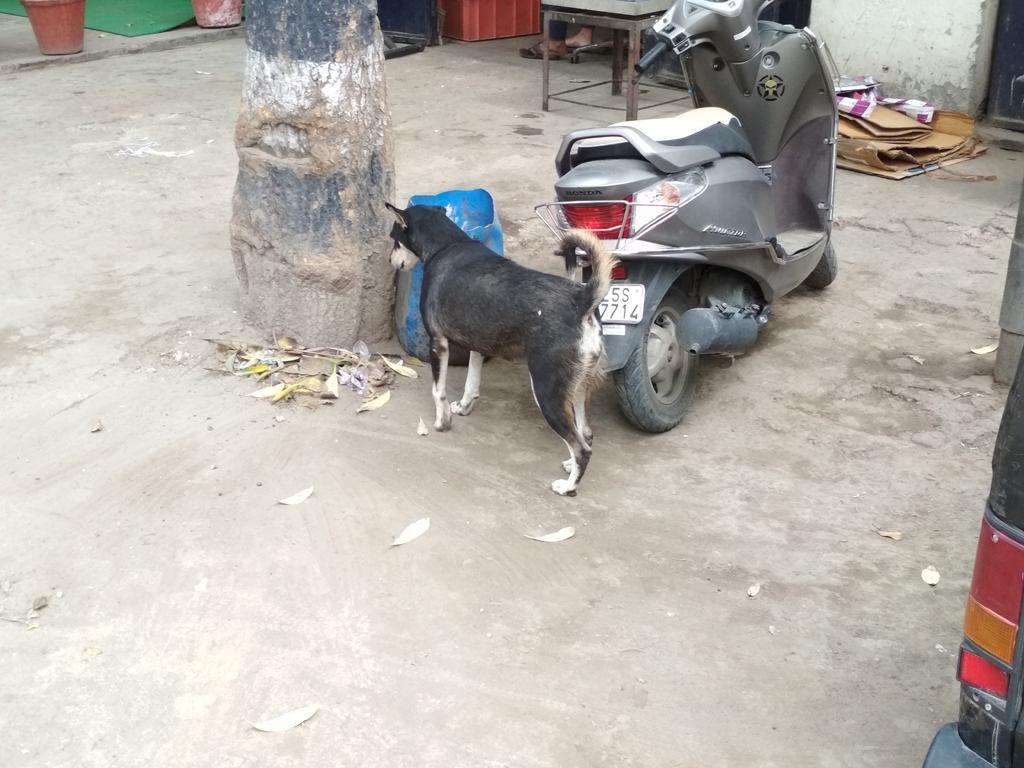dog: (384, 203, 613, 498)
